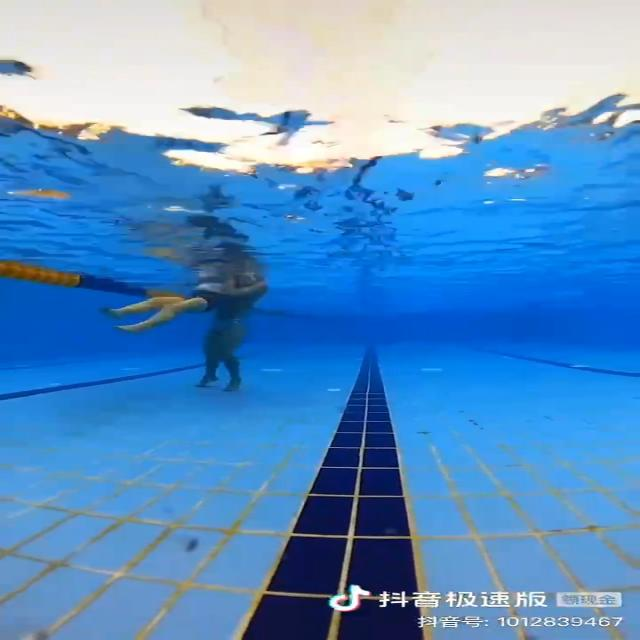Drowning: (96, 265, 242, 338)
